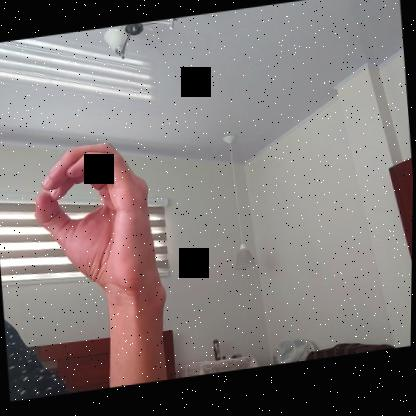O: (28, 135, 164, 306)
